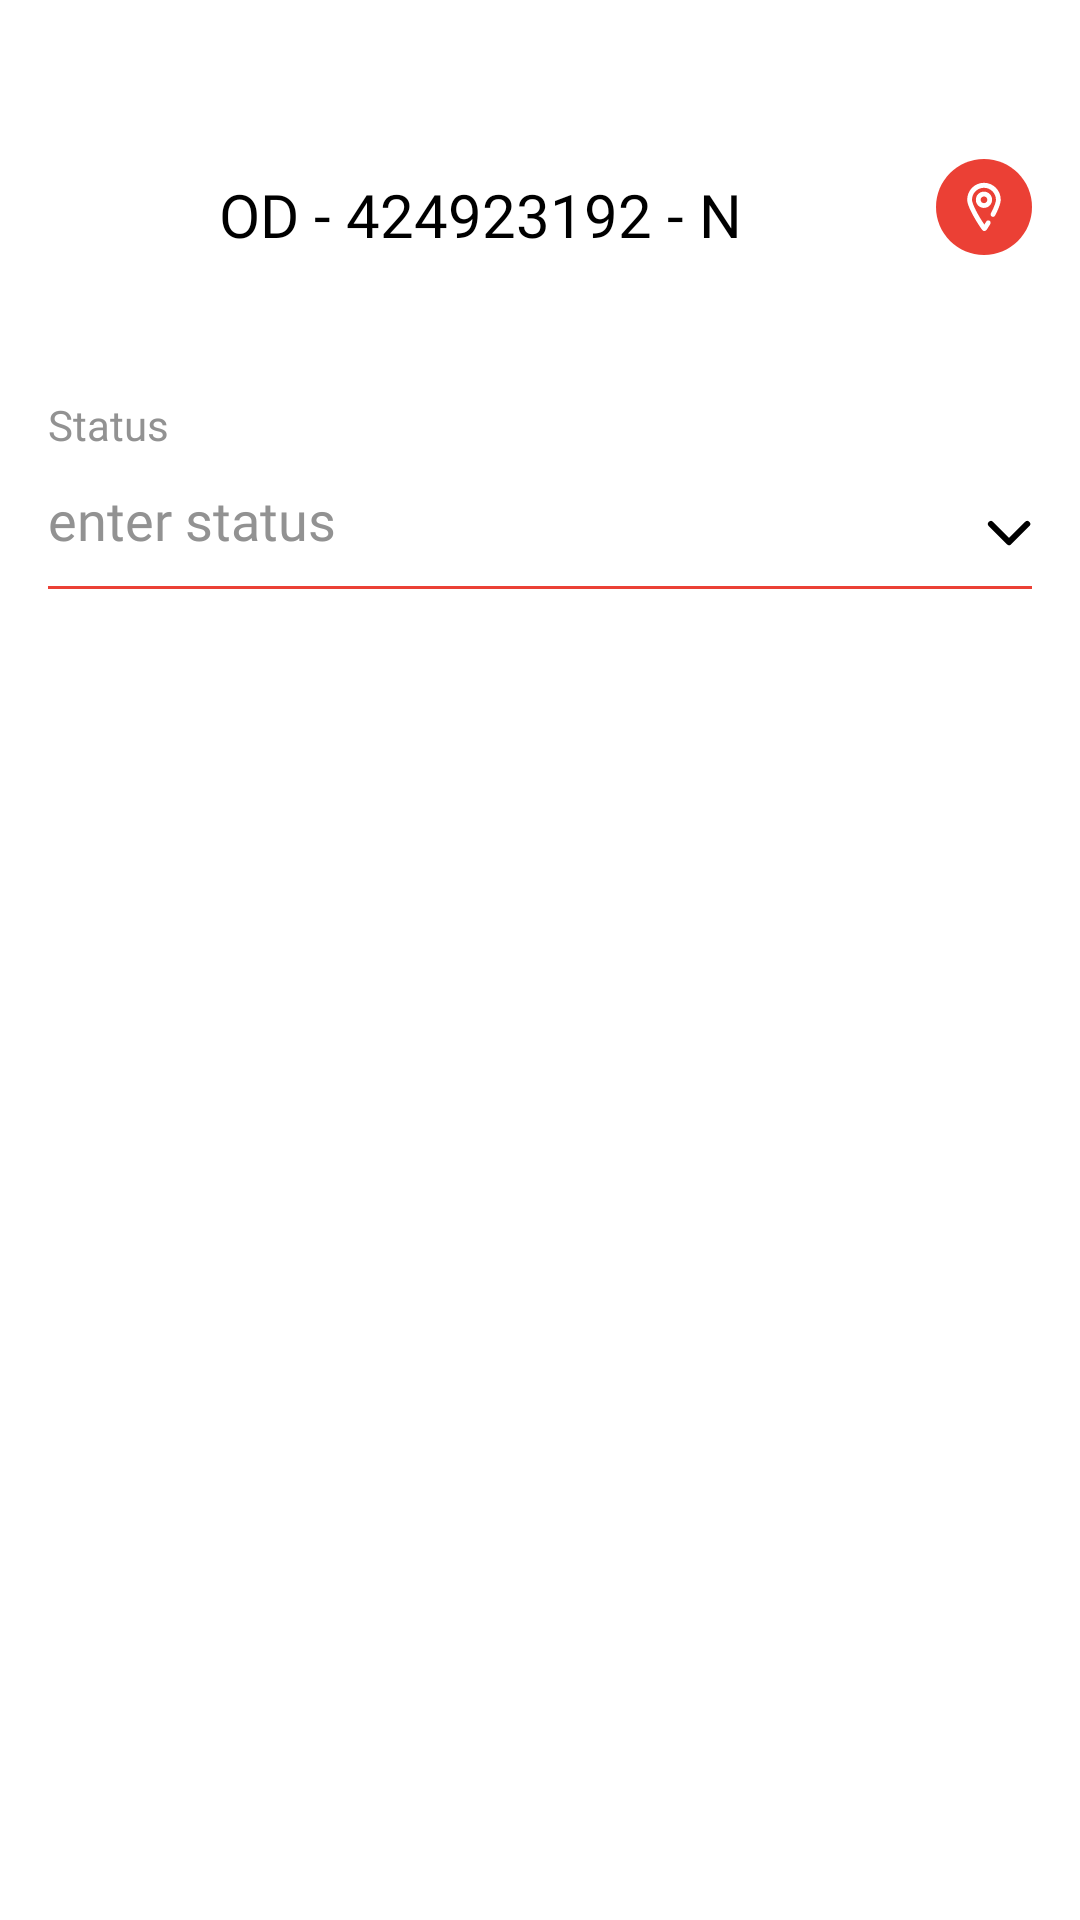

Screen size 1080×1920. Icon name, then its box in pixels as (x1, y1, x2, y2):
arrow down: (987, 520, 1031, 546)
